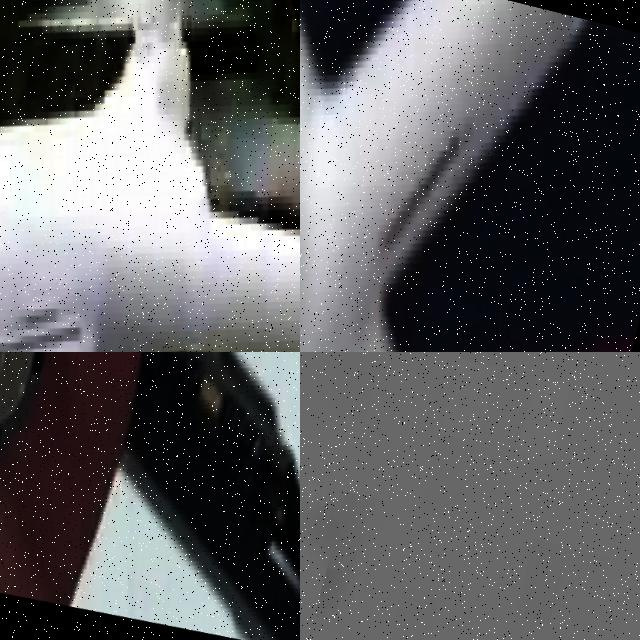drone: (300, 0, 640, 352), (0, 0, 300, 352), (0, 352, 300, 640)
